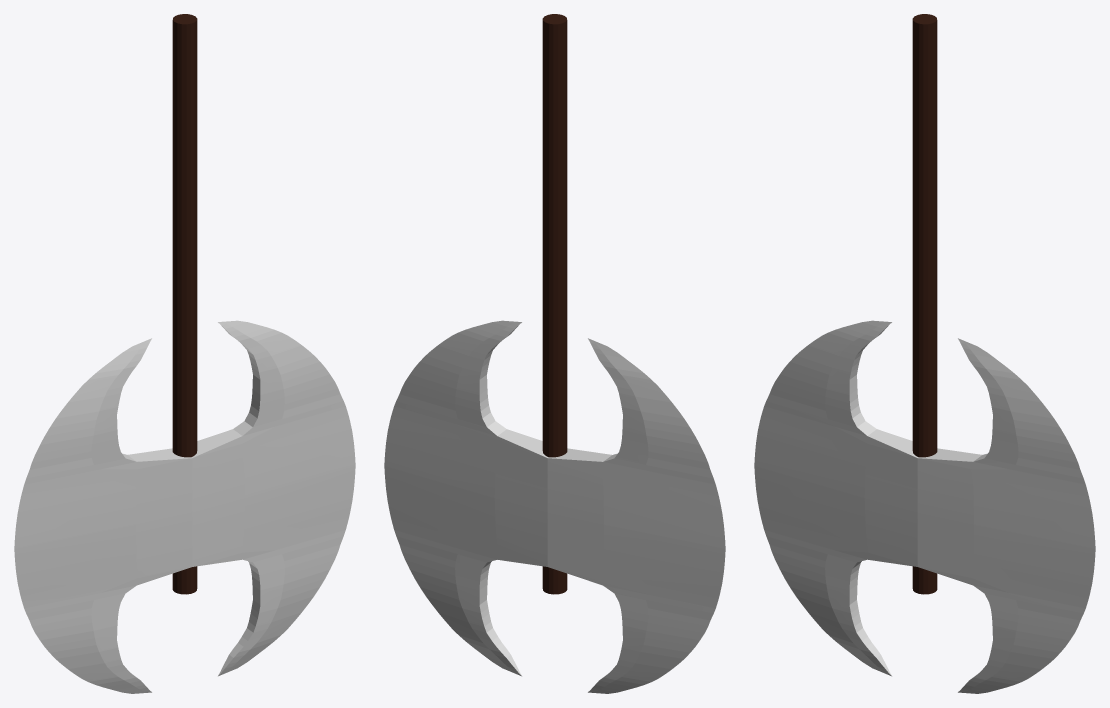
Rendered from BattleAxe.fbx.
3 renders of one model, left to right at view 1: azimuth 30°, elevation 25°; view 2: azimuth 150°, elevation 25°; view 3: azimuth 330°, elevation 25°, orthographic.
Parts seen in each view (by area): view 1: BattleAxe; view 2: BattleAxe; view 3: BattleAxe.
Part boxes in pixels (bbox=[...]): BattleAxe: bbox=[14, 14, 355, 693]; BattleAxe: bbox=[384, 14, 725, 693]; BattleAxe: bbox=[754, 14, 1095, 693].
Bounding box in the file's own units: 54.48 × 101 × 4.
